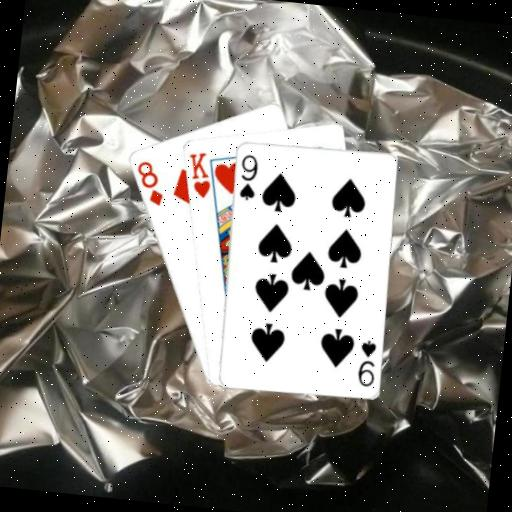8D: (130, 157, 168, 209)
9S: (234, 150, 261, 202), (353, 336, 380, 388)
KH: (182, 148, 216, 201)
